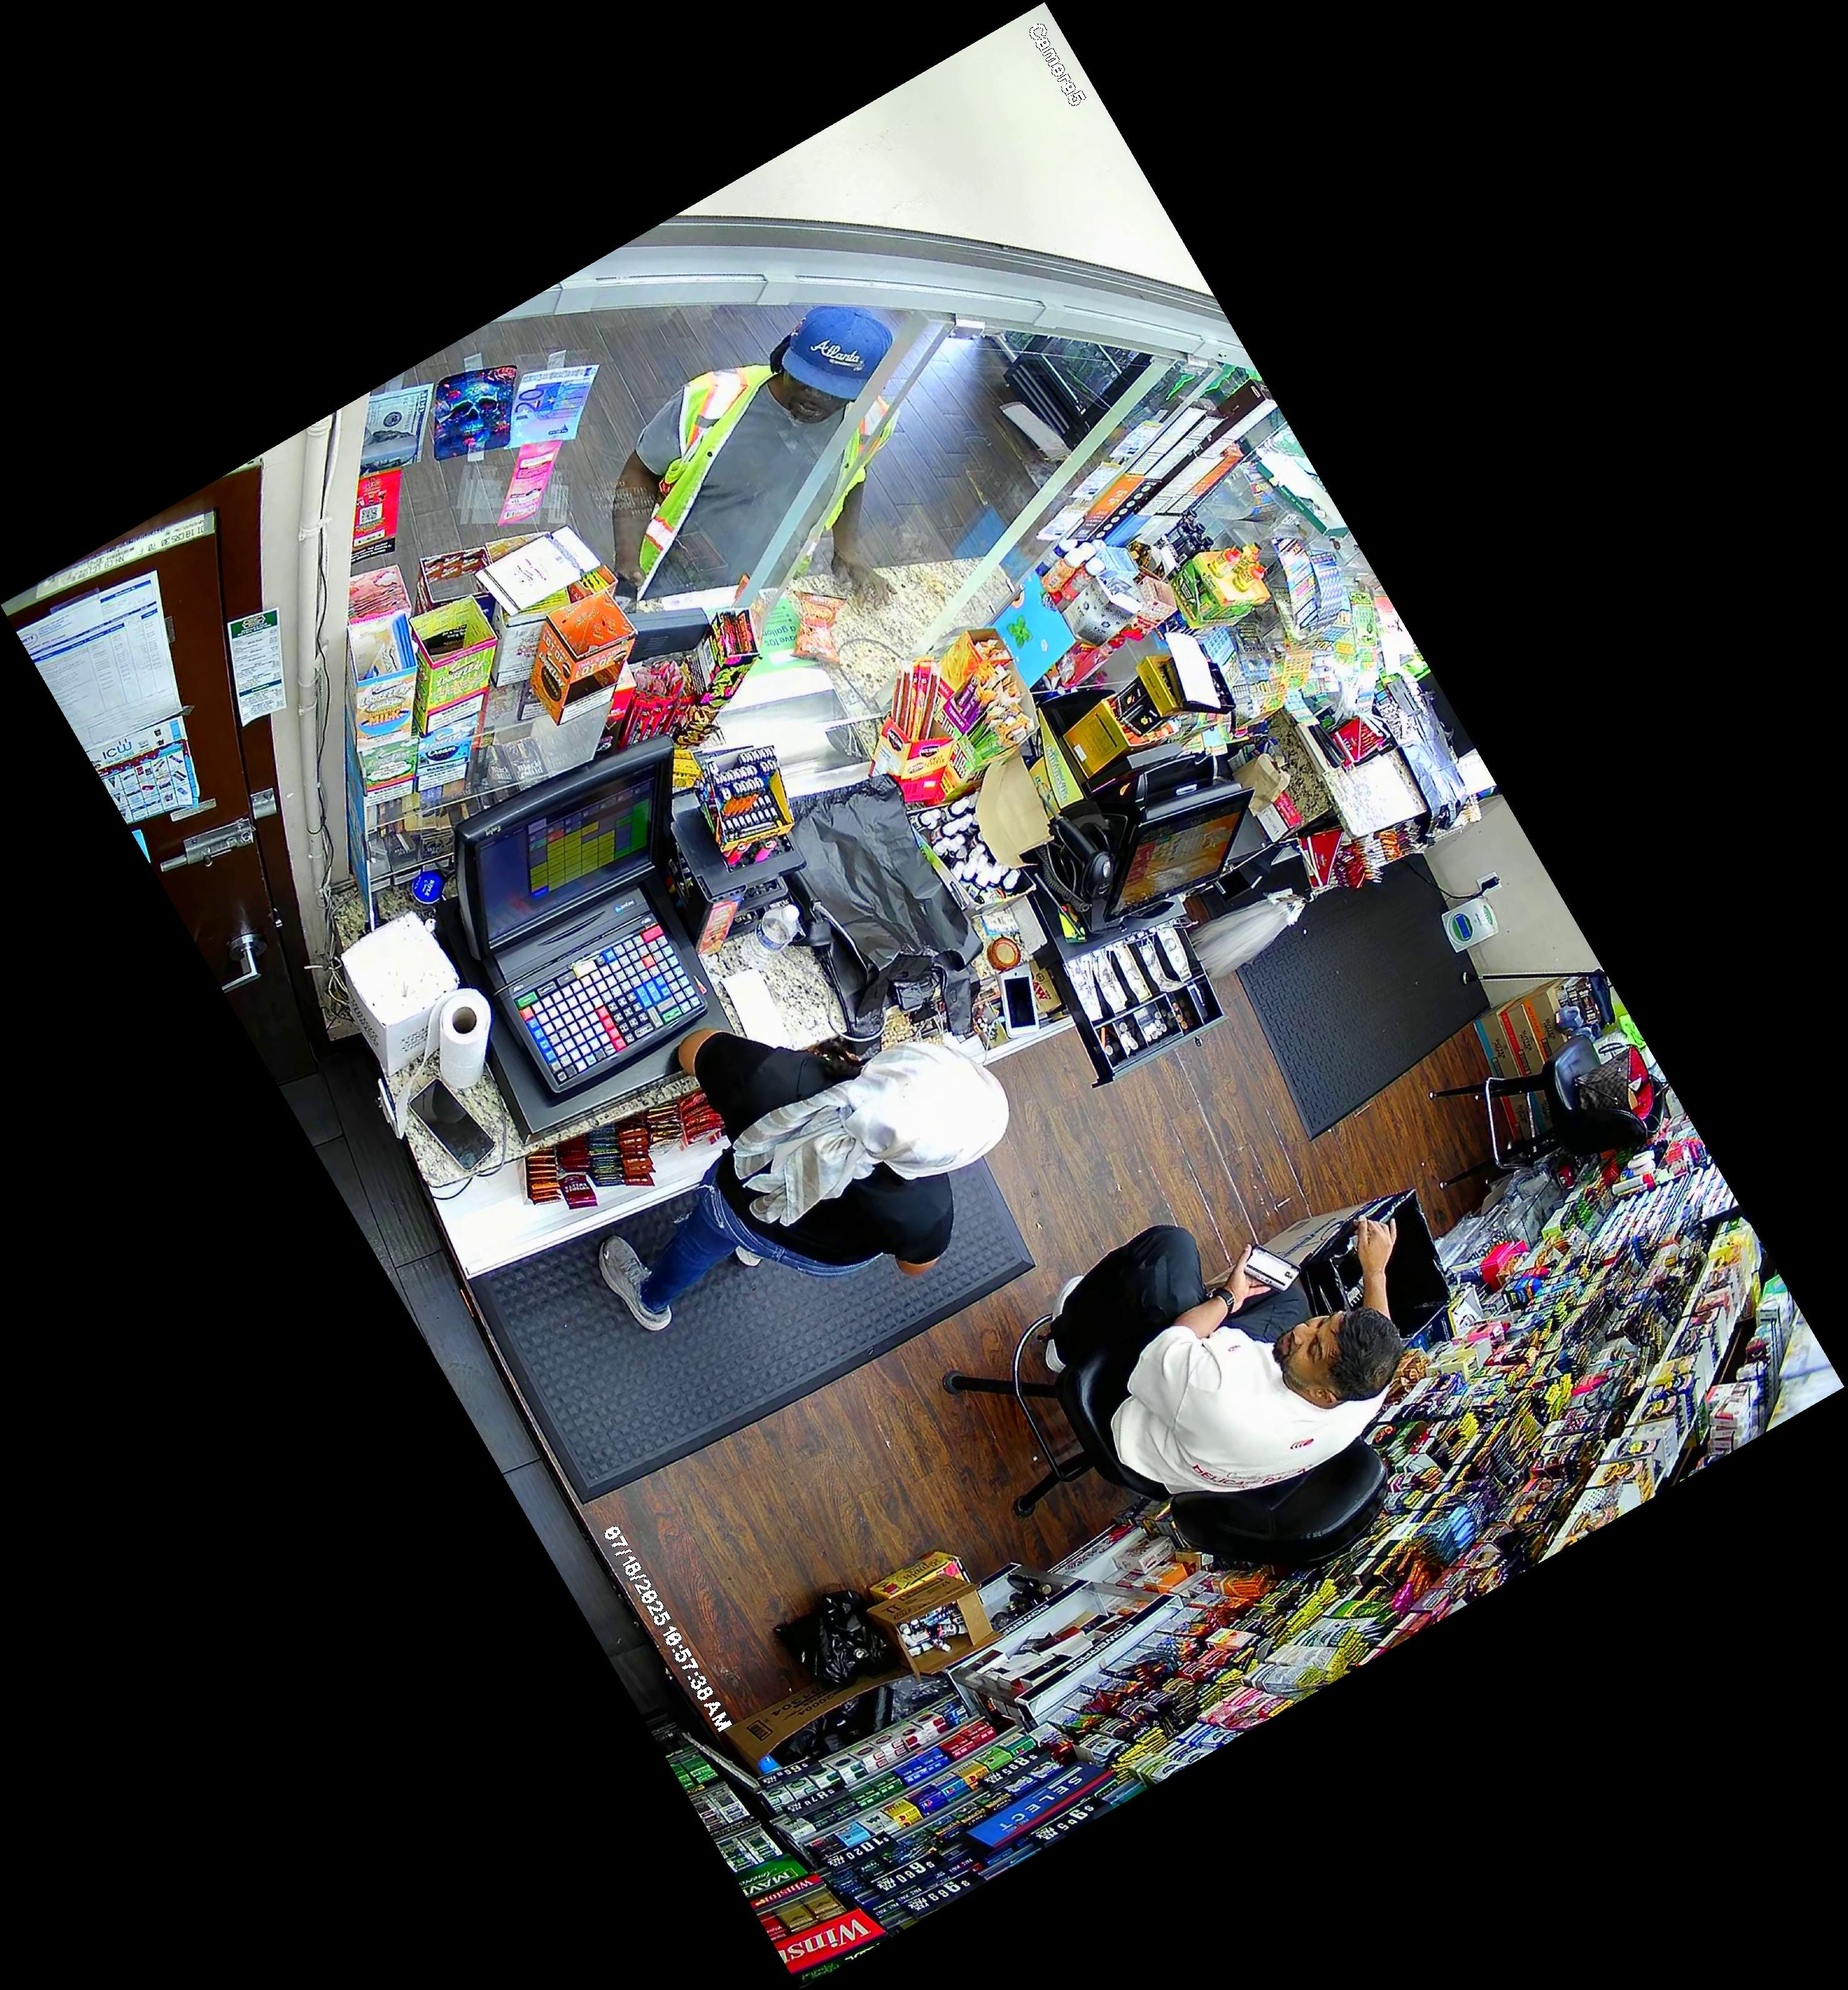phone: (1233, 1236, 1311, 1301), (604, 568, 650, 599)
